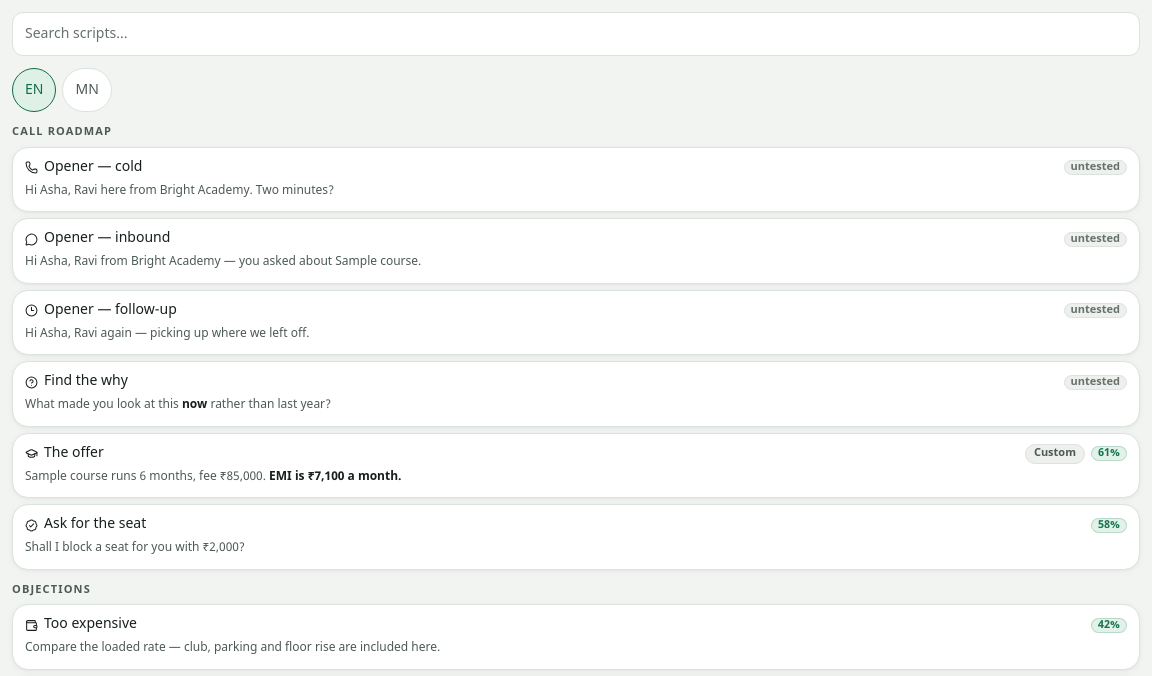
LibraryScreen › searches over labels and bodies
This screenshot has width=1152, height=676.
expect the heading "Call roadmap" is shown: met, box [12,125,112,139]
Type "loaded rate" into the search field labelled "Search scripts". click: (576, 34)
box: [12,12,1140,56]
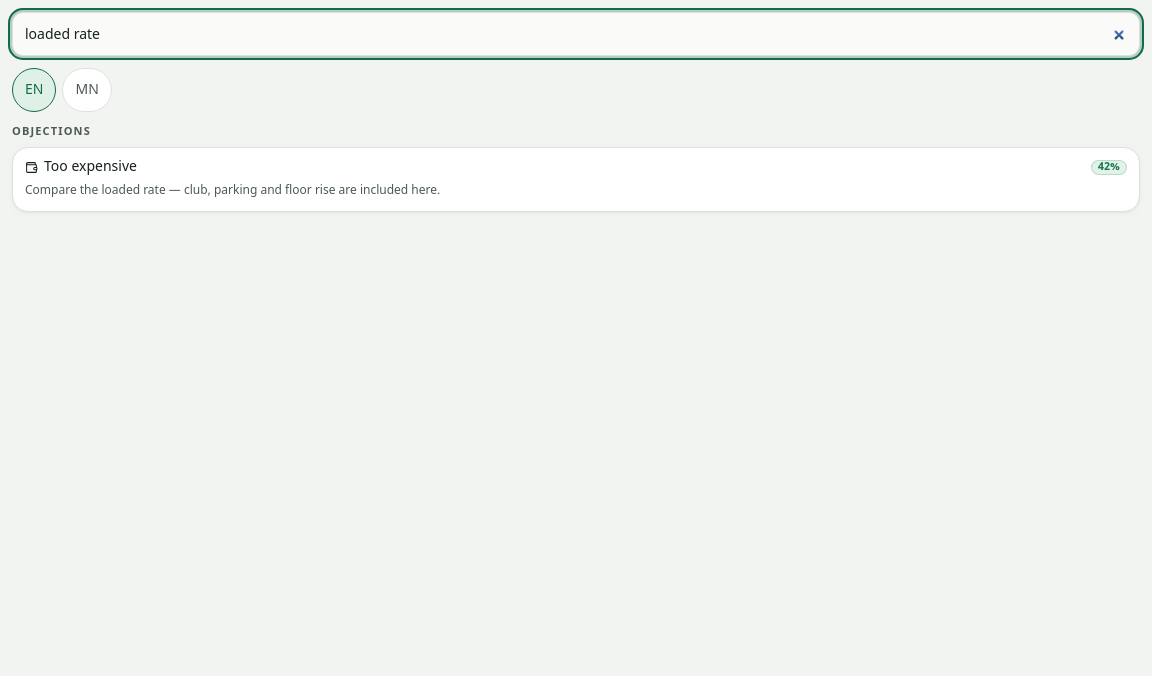
expect the text "Too expensive" is shown: met, box [44,158,137,176]
expect the heading "Call roadmap" is gone: met
Replace the text in the search field named "Search scripts" with "zzz". click: (576, 34)
box: [12,12,1140,56]
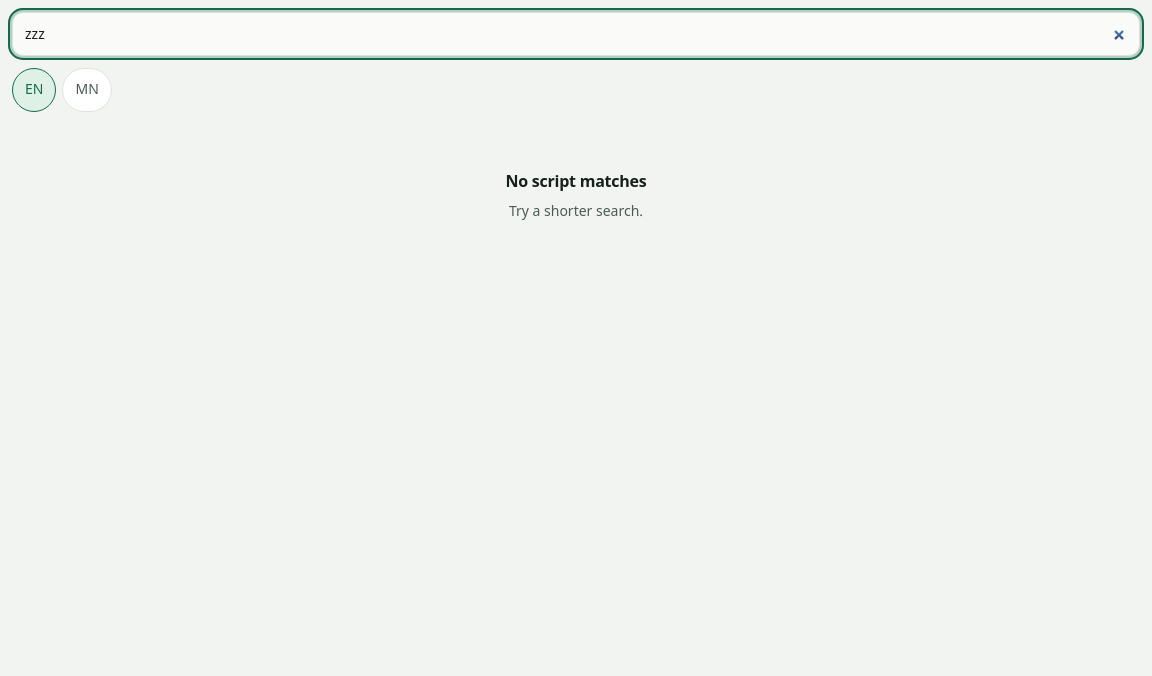
expect the heading "No script matches" is shown: met, box [506,173,646,194]
